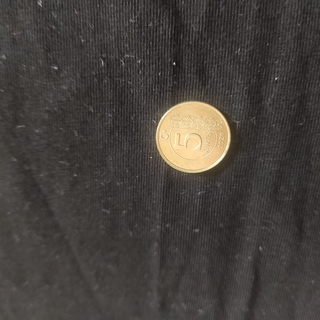5KURUS: (153, 98, 232, 174)
